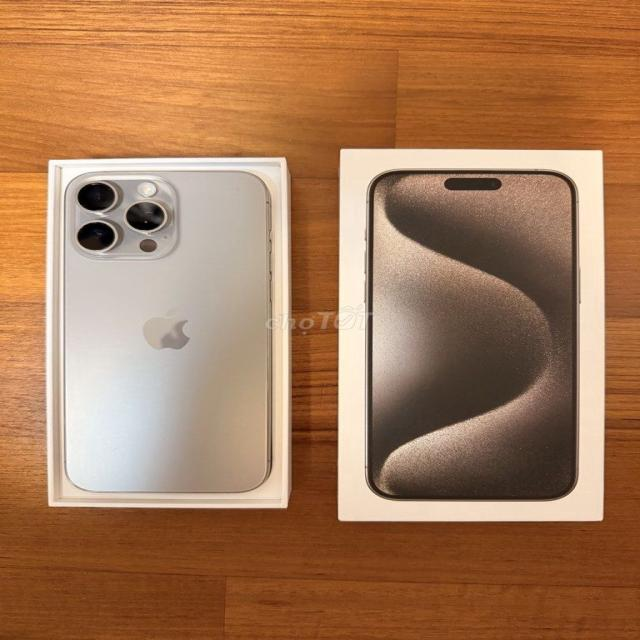gen_15: (53, 155, 280, 515)
